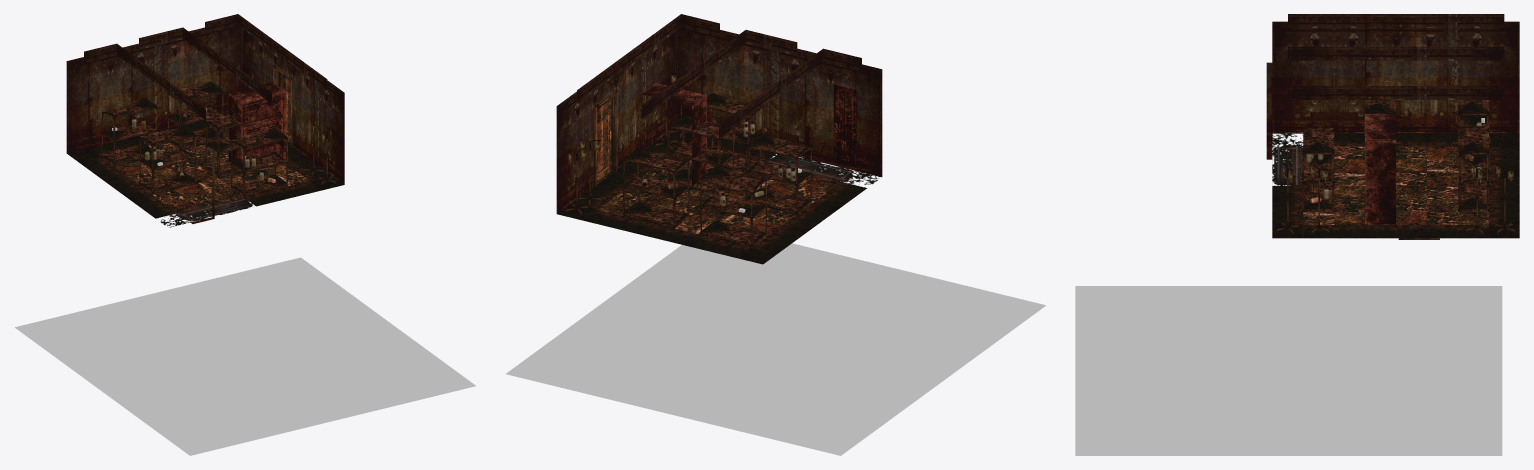
The picture shows the model from 3 angles, left to right: view 1: azimuth 30°, elevation 25°; view 2: azimuth 150°, elevation 25°; view 3: azimuth 270°, elevation 25°; orthographic projection. The views are drawn at different scales.
Parts seen in each view (by area): view 1: TANA_HID_m0, NL_BACK_m2, NL_BACK_m5, NL_BACK_m1, NL_BACK_m0, NL_m6, NL_m7, NL_m2, NL_m3, NL_m8, NL_m5, NL_m4; view 2: TANA_HID_m0, NL_BACK_m3, NL_BACK_m5, NL_BACK_m1, NL_BACK_m0, NL_m6, NL_m8, NL_m5, NL_m2, NL_m7, NL_m4, NL_m3; view 3: TANA_HID_m0, NL_BACK_m4, NL_BACK_m5, NL_BACK_m0, NL_m6, NL_m3, NL_m5, NL_m2, NL_BACK_m3.
Part boxes in pixels (x1,y1,x2,y2): TANA_HID_m0: [15, 82, 475, 455]; NL_BACK_m2: [66, 14, 242, 153]; NL_BACK_m5: [67, 114, 343, 227]; NL_BACK_m1: [238, 14, 344, 184]; NL_BACK_m0: [117, 27, 293, 147]; NL_m6: [101, 81, 223, 169]; NL_m7: [139, 149, 196, 194]; NL_m2: [205, 114, 323, 171]; NL_m3: [231, 86, 288, 196]; NL_m8: [101, 122, 157, 166]; NL_m5: [167, 105, 224, 149]; NL_m4: [205, 79, 261, 178]; TANA_HID_m0: [505, 83, 1045, 455]; NL_BACK_m3: [676, 14, 882, 176]; NL_BACK_m5: [557, 129, 879, 264]; NL_BACK_m1: [556, 14, 681, 213]; NL_BACK_m0: [594, 30, 823, 187]; NL_m6: [623, 134, 812, 216]; NL_m8: [699, 195, 766, 247]; NL_m5: [623, 177, 689, 228]; NL_m2: [667, 87, 764, 164]; NL_m7: [745, 161, 812, 214]; NL_m4: [583, 142, 734, 195]; NL_m3: [597, 120, 764, 172]; TANA_HID_m0: [1075, 114, 1502, 455]; NL_BACK_m4: [1272, 14, 1519, 133]; NL_BACK_m5: [1272, 133, 1519, 238]; NL_BACK_m0: [1288, 46, 1504, 239]; NL_m6: [1364, 100, 1490, 182]; NL_m3: [1302, 154, 1474, 211]; NL_m5: [1458, 154, 1488, 211]; NL_m2: [1284, 126, 1334, 195]; NL_BACK_m3: [1266, 62, 1272, 159].
Bounding box in the file's own units: 10.4 × 8.95 × 11.5.
Materials: 15 (13 with a texture image).
